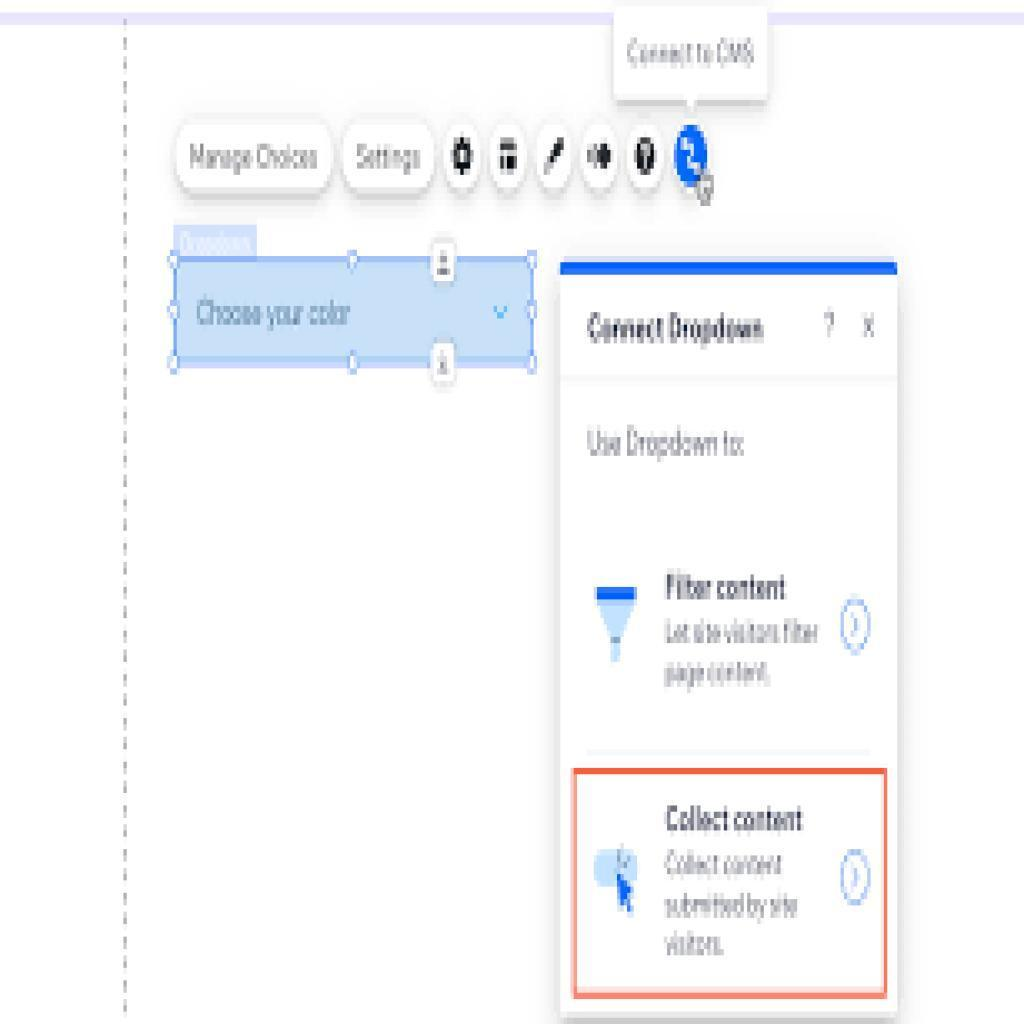button: (174, 116, 335, 197), (341, 114, 438, 200)
dropdown: (176, 259, 536, 368)
icon: (495, 134, 524, 178), (451, 133, 475, 181), (542, 137, 566, 179), (635, 137, 659, 177), (586, 144, 616, 170)
